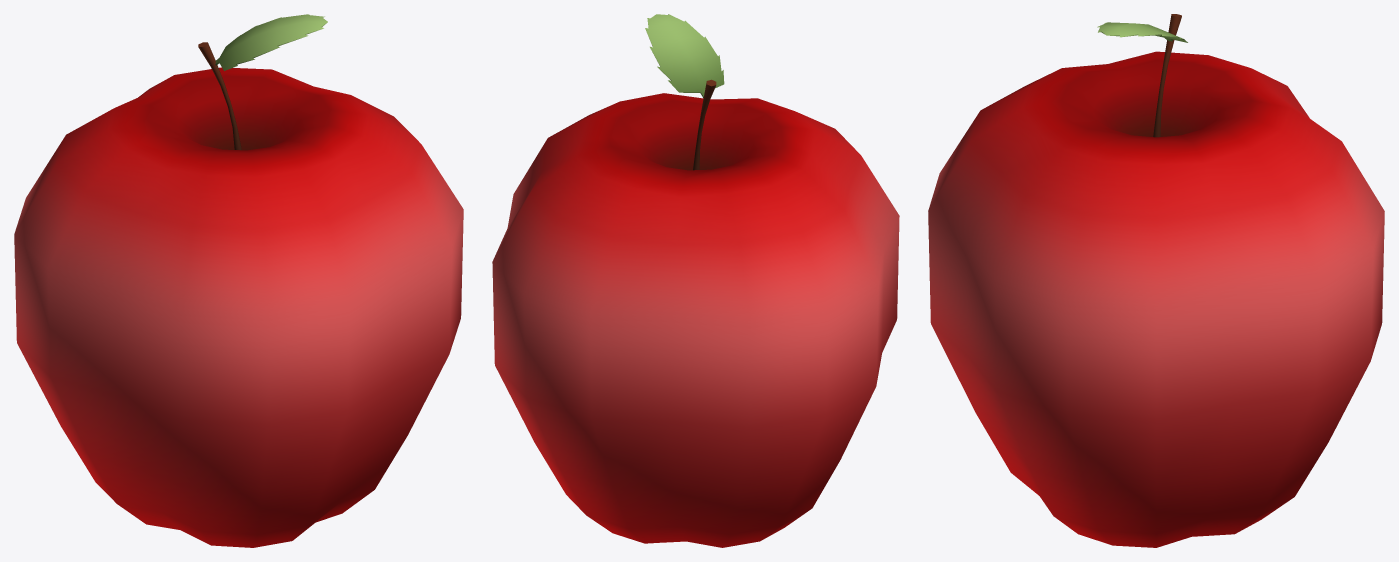
Rendered from Apple_001.FBX.
The picture shows the model from 3 angles, left to right: view 1: azimuth 30°, elevation 25°; view 2: azimuth 150°, elevation 25°; view 3: azimuth 270°, elevation 25°; orthographic projection. The views are drawn at different scales.
Parts seen in each view (by area): view 1: Cylinder001, Plane002, Cylinder002; view 2: Cylinder001, Plane002, Cylinder002; view 3: Cylinder001, Plane002, Cylinder002.
Part boxes in pixels (x1,y1,x2,y2): Cylinder001: (14, 67, 463, 547); Plane002: (215, 14, 327, 70); Cylinder002: (198, 42, 241, 150); Cylinder001: (492, 93, 899, 547); Plane002: (645, 14, 724, 97); Cylinder002: (693, 79, 716, 170); Cylinder001: (928, 51, 1384, 547); Plane002: (1097, 22, 1187, 42); Cylinder002: (1153, 14, 1181, 137).
Bounding box in the file's own units: 37.42 × 45.94 × 37.42.
